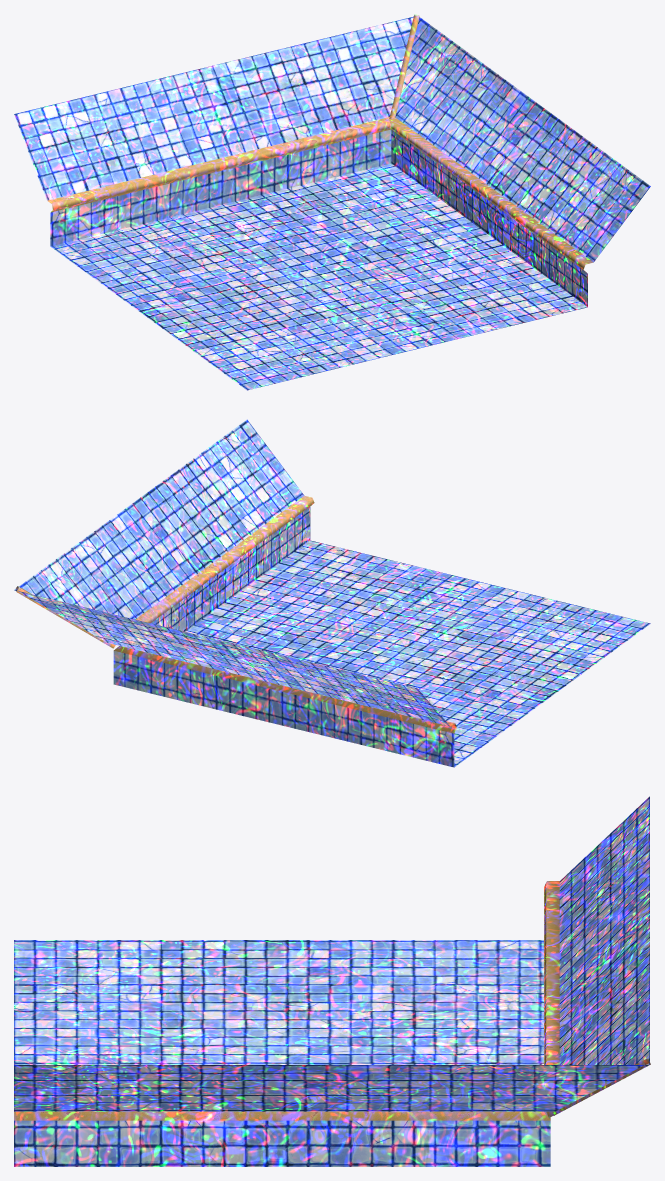
The model's file is water_corner_SM.fbx.
The picture shows the model from 3 angles, top to bottom: view 1: azimuth 30°, elevation 25°; view 2: azimuth 150°, elevation 25°; view 3: azimuth 270°, elevation 25°; orthographic projection. The views are drawn at different scales.
Parts seen in each view (by area): view 1: water_corner_SM_LOD0; view 2: water_corner_SM_LOD0; view 3: water_corner_SM_LOD0.
Part boxes in pixels (left/top/right/bottom): water_corner_SM_LOD0: left=14, top=14, right=650, bottom=390; water_corner_SM_LOD0: left=14, top=419, right=650, bottom=767; water_corner_SM_LOD0: left=14, top=796, right=650, bottom=1166.
Size of the model in its own units: 1026 by 1026 by 263.
Materials: 3 (3 with a texture image).
